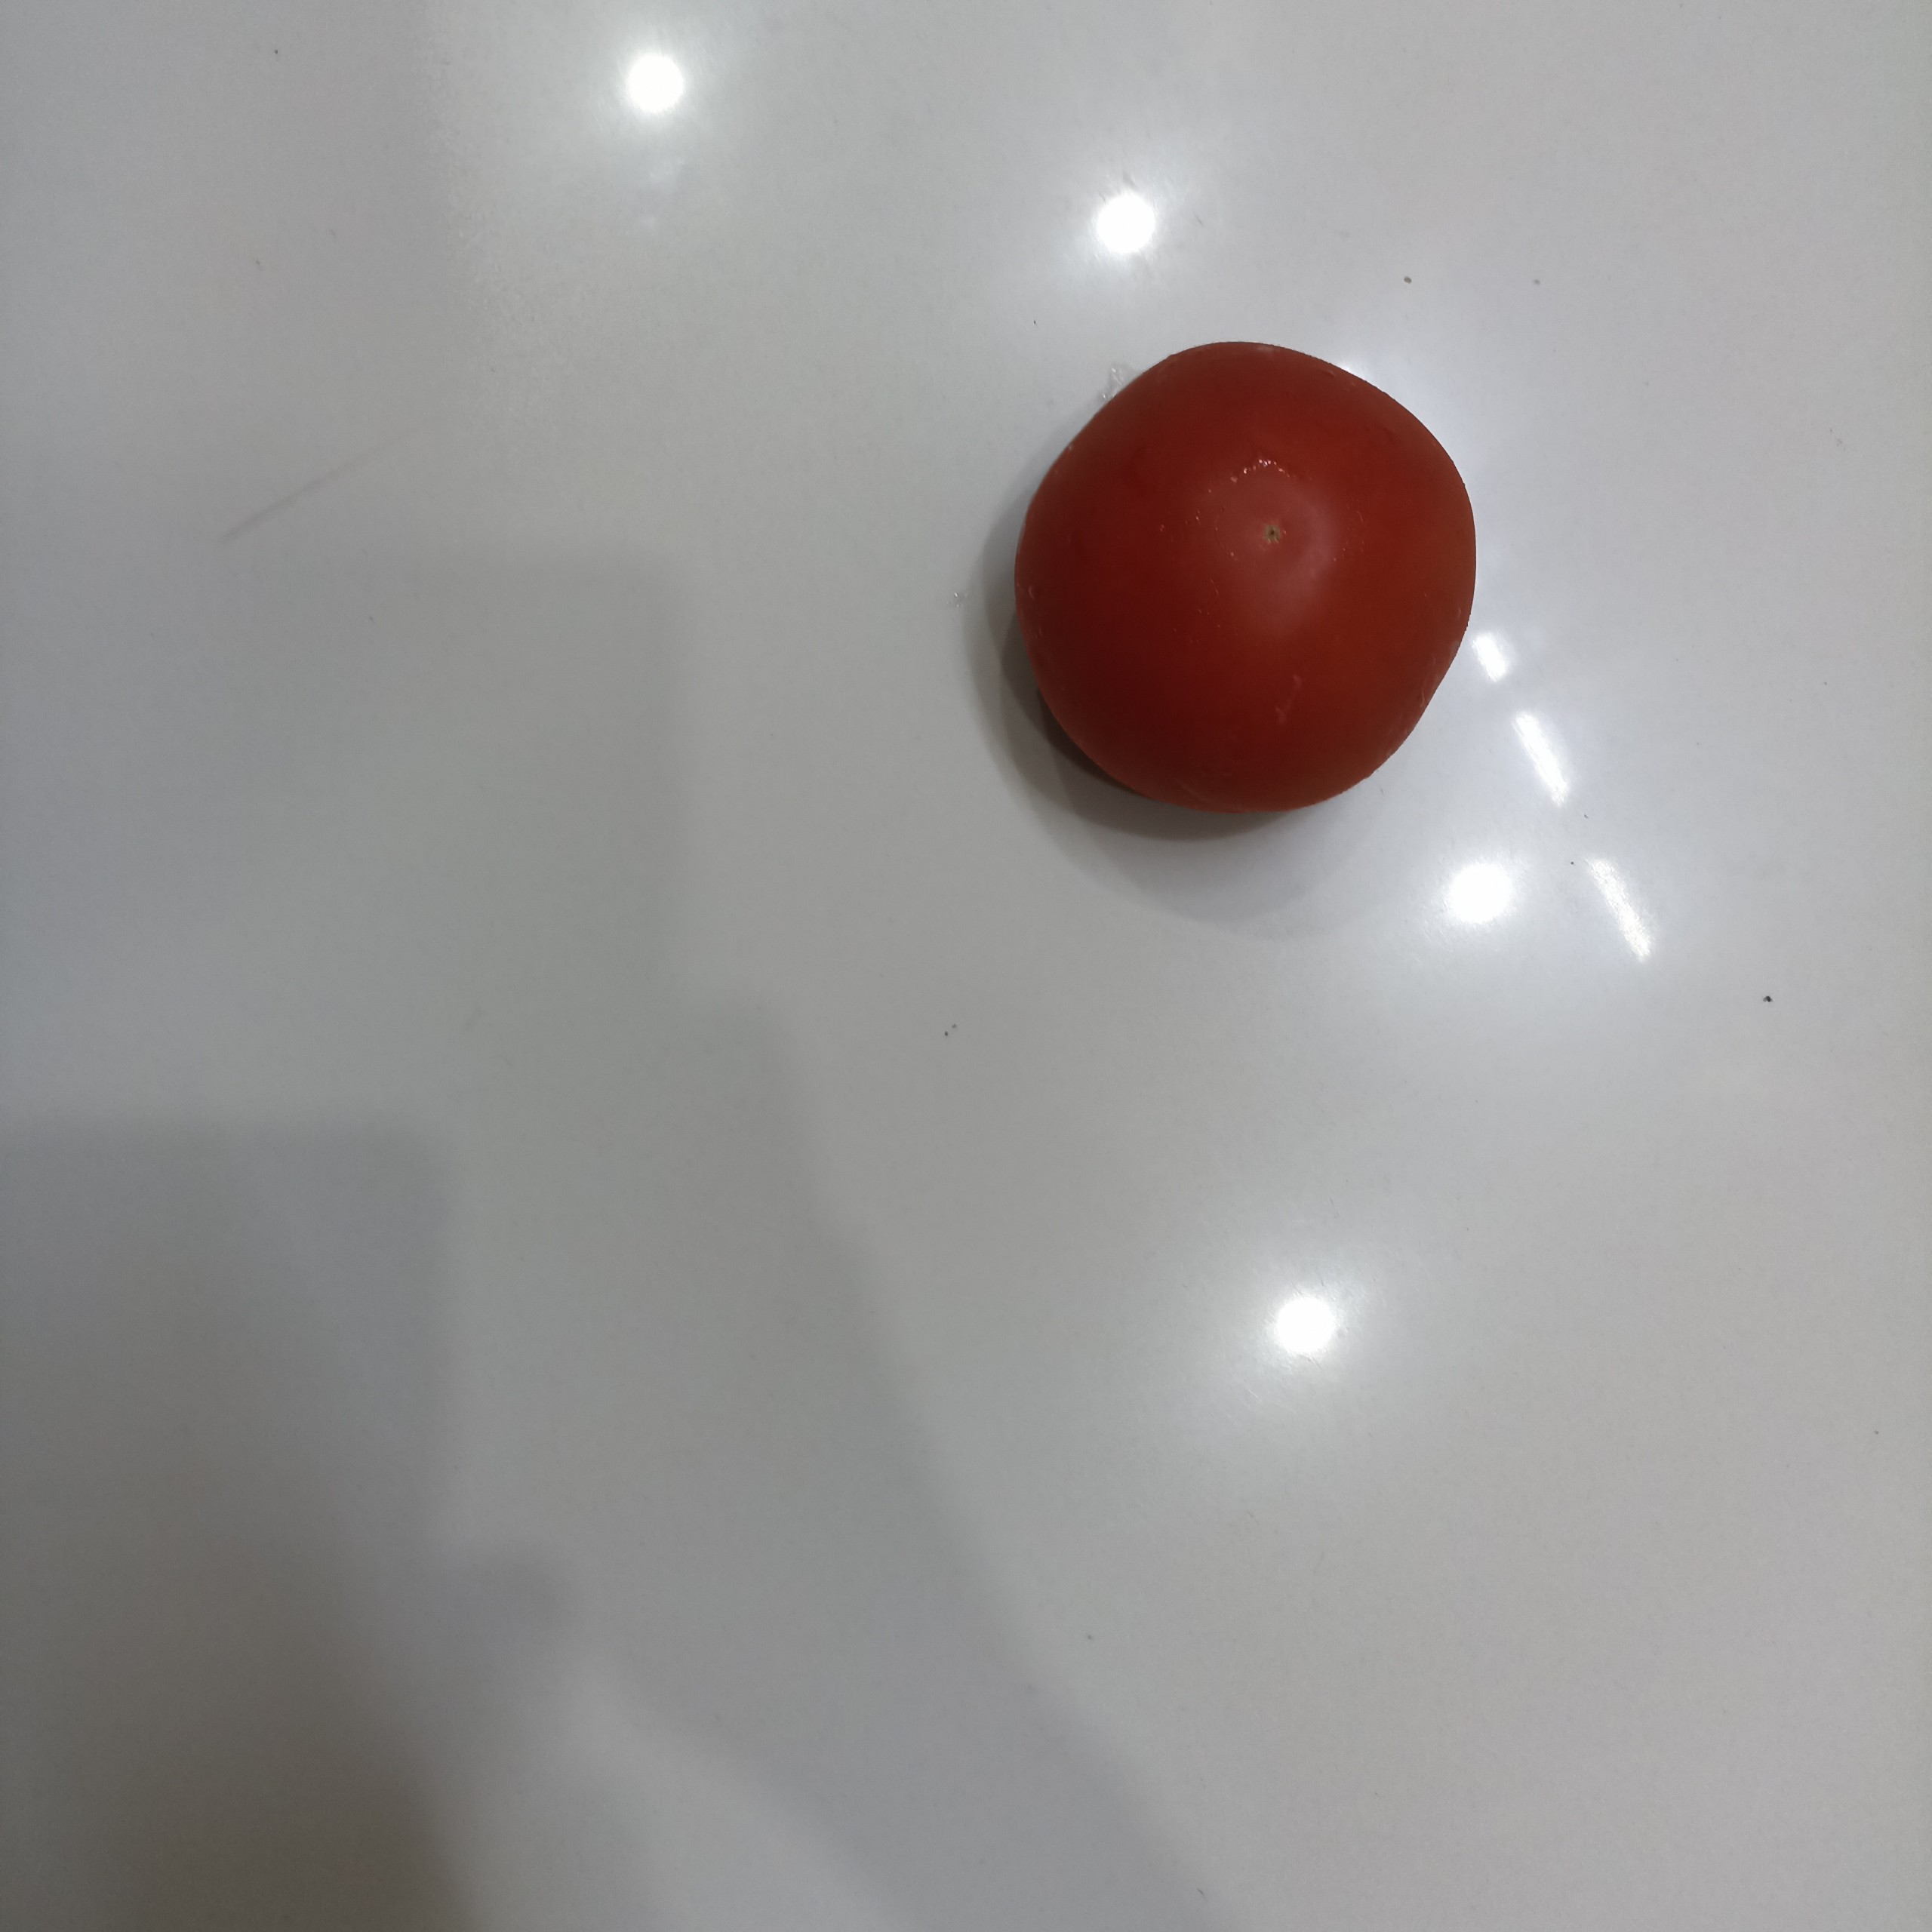Ca chua: (1007, 333, 1479, 816)
